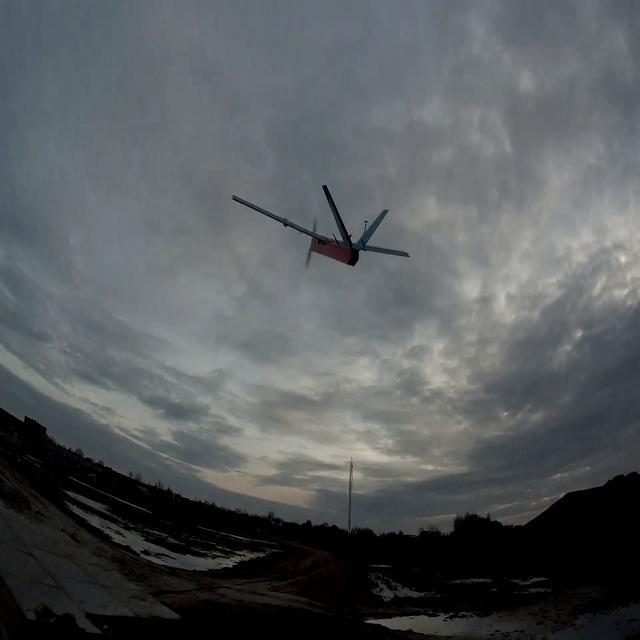iha: (219, 162, 429, 296)
